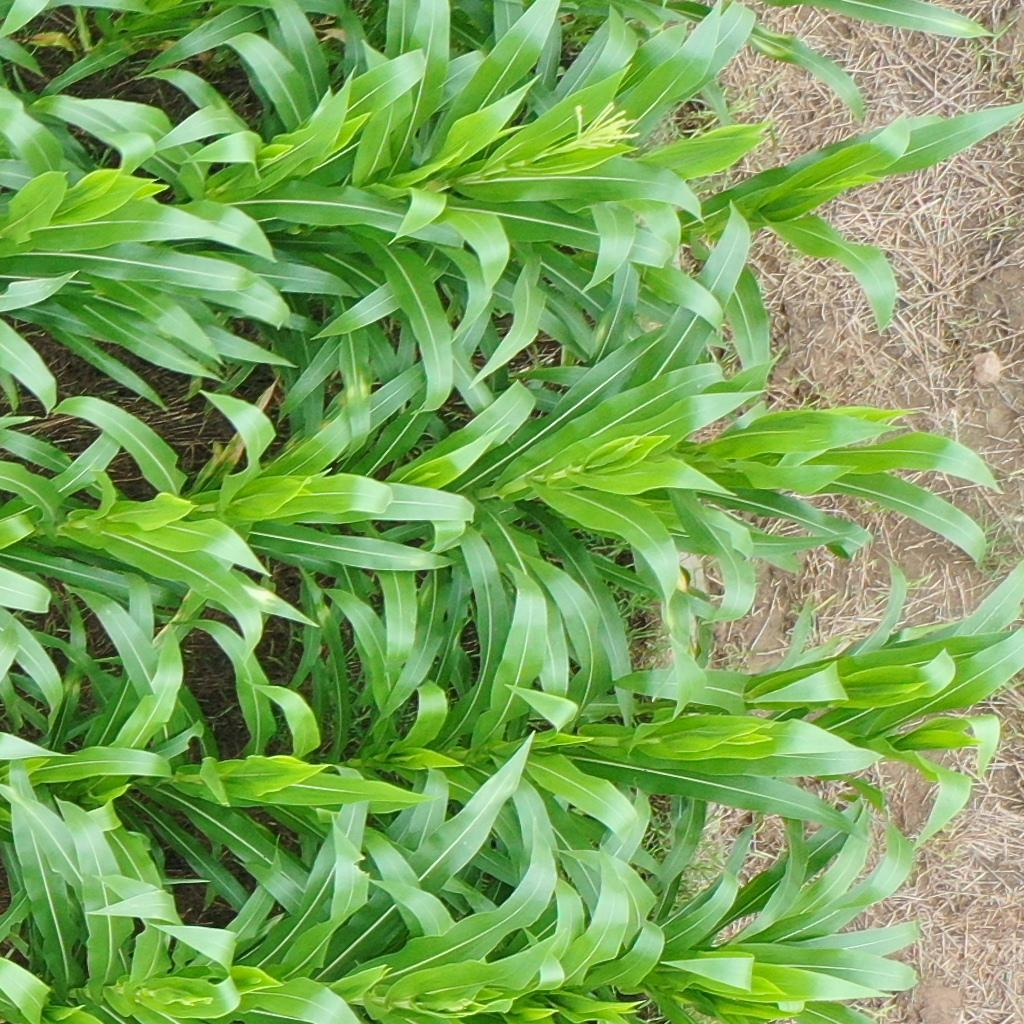Tassel: (546, 100, 645, 154)
